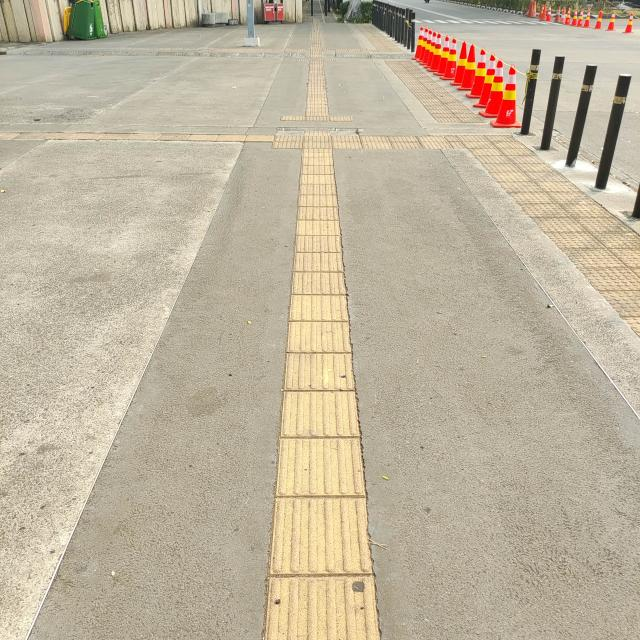lurus: (282, 148, 362, 640)
